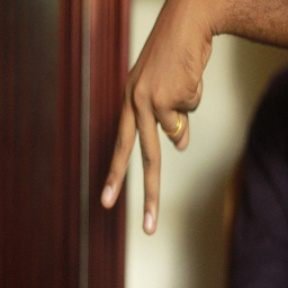Y: (99, 29, 214, 234)
